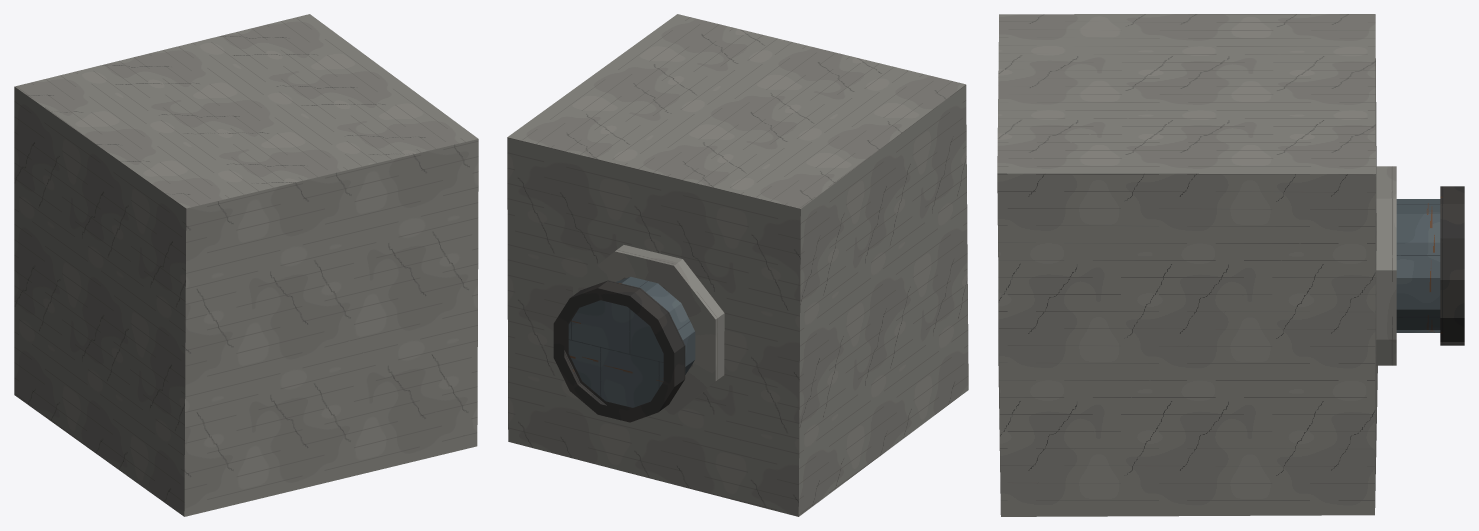
File: pipe_cement_cube_v1.fbx
The picture shows the model from 3 angles, left to right: view 1: azimuth 30°, elevation 25°; view 2: azimuth 150°, elevation 25°; view 3: azimuth 270°, elevation 25°; orthographic projection. The views are drawn at different scales.
Parts seen in each view (by area): view 1: pipe_cement_cube_v1_lod0; view 2: pipe_cement_cube_v1_lod0; view 3: pipe_cement_cube_v1_lod0.
Boxes of the visible parts, left/top/right/bottom form: pipe_cement_cube_v1_lod0: left=14, top=14, right=478, bottom=516; pipe_cement_cube_v1_lod0: left=507, top=14, right=968, bottom=516; pipe_cement_cube_v1_lod0: left=997, top=14, right=1464, bottom=516.
Size of what is drawn, in the model's own units: 502 by 504 by 618.
